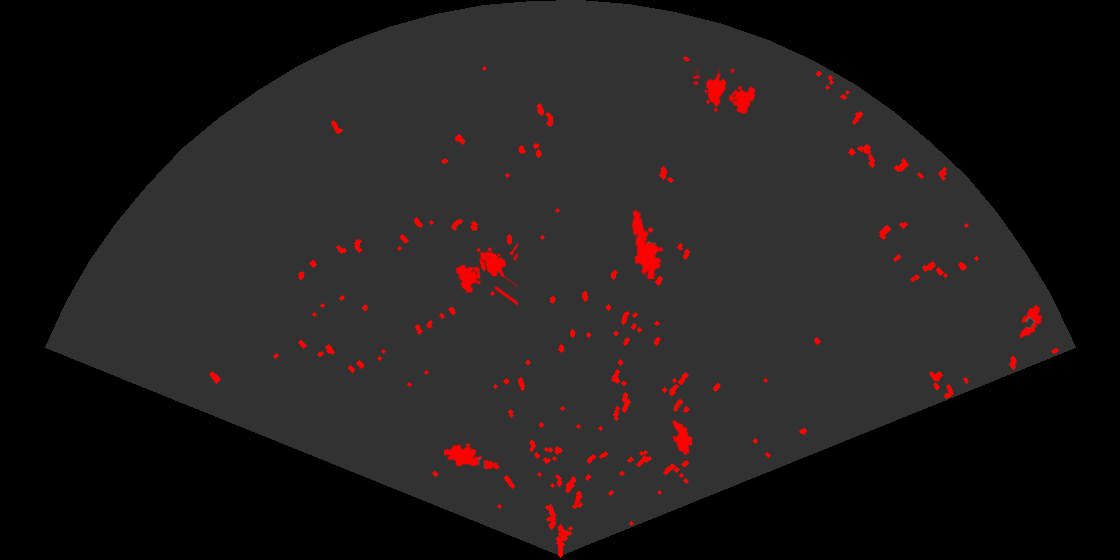AUV: (1018, 303, 1044, 340), (671, 418, 694, 457)
cage: (454, 241, 518, 307), (693, 69, 758, 116)
frogman: (630, 208, 666, 279), (444, 441, 501, 471)
